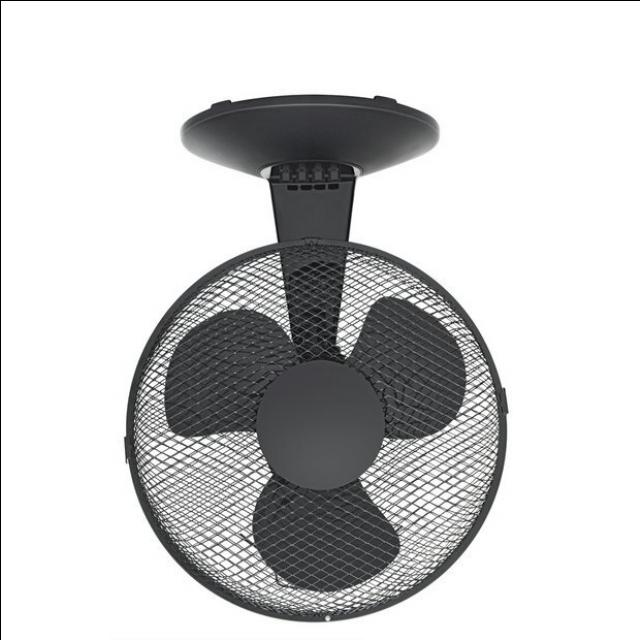fan: (110, 91, 512, 623)
